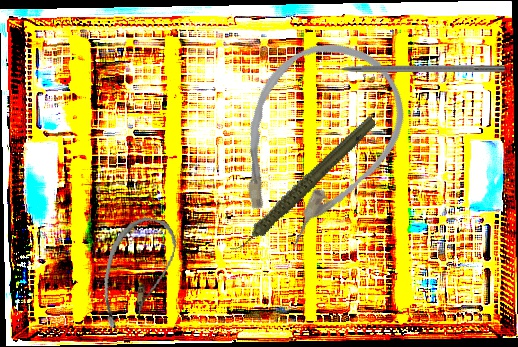Cannula: (201, 17, 429, 267), (94, 211, 181, 338)
Handpiece: (207, 114, 397, 255)
Hook Surgical: (317, 63, 505, 72)
